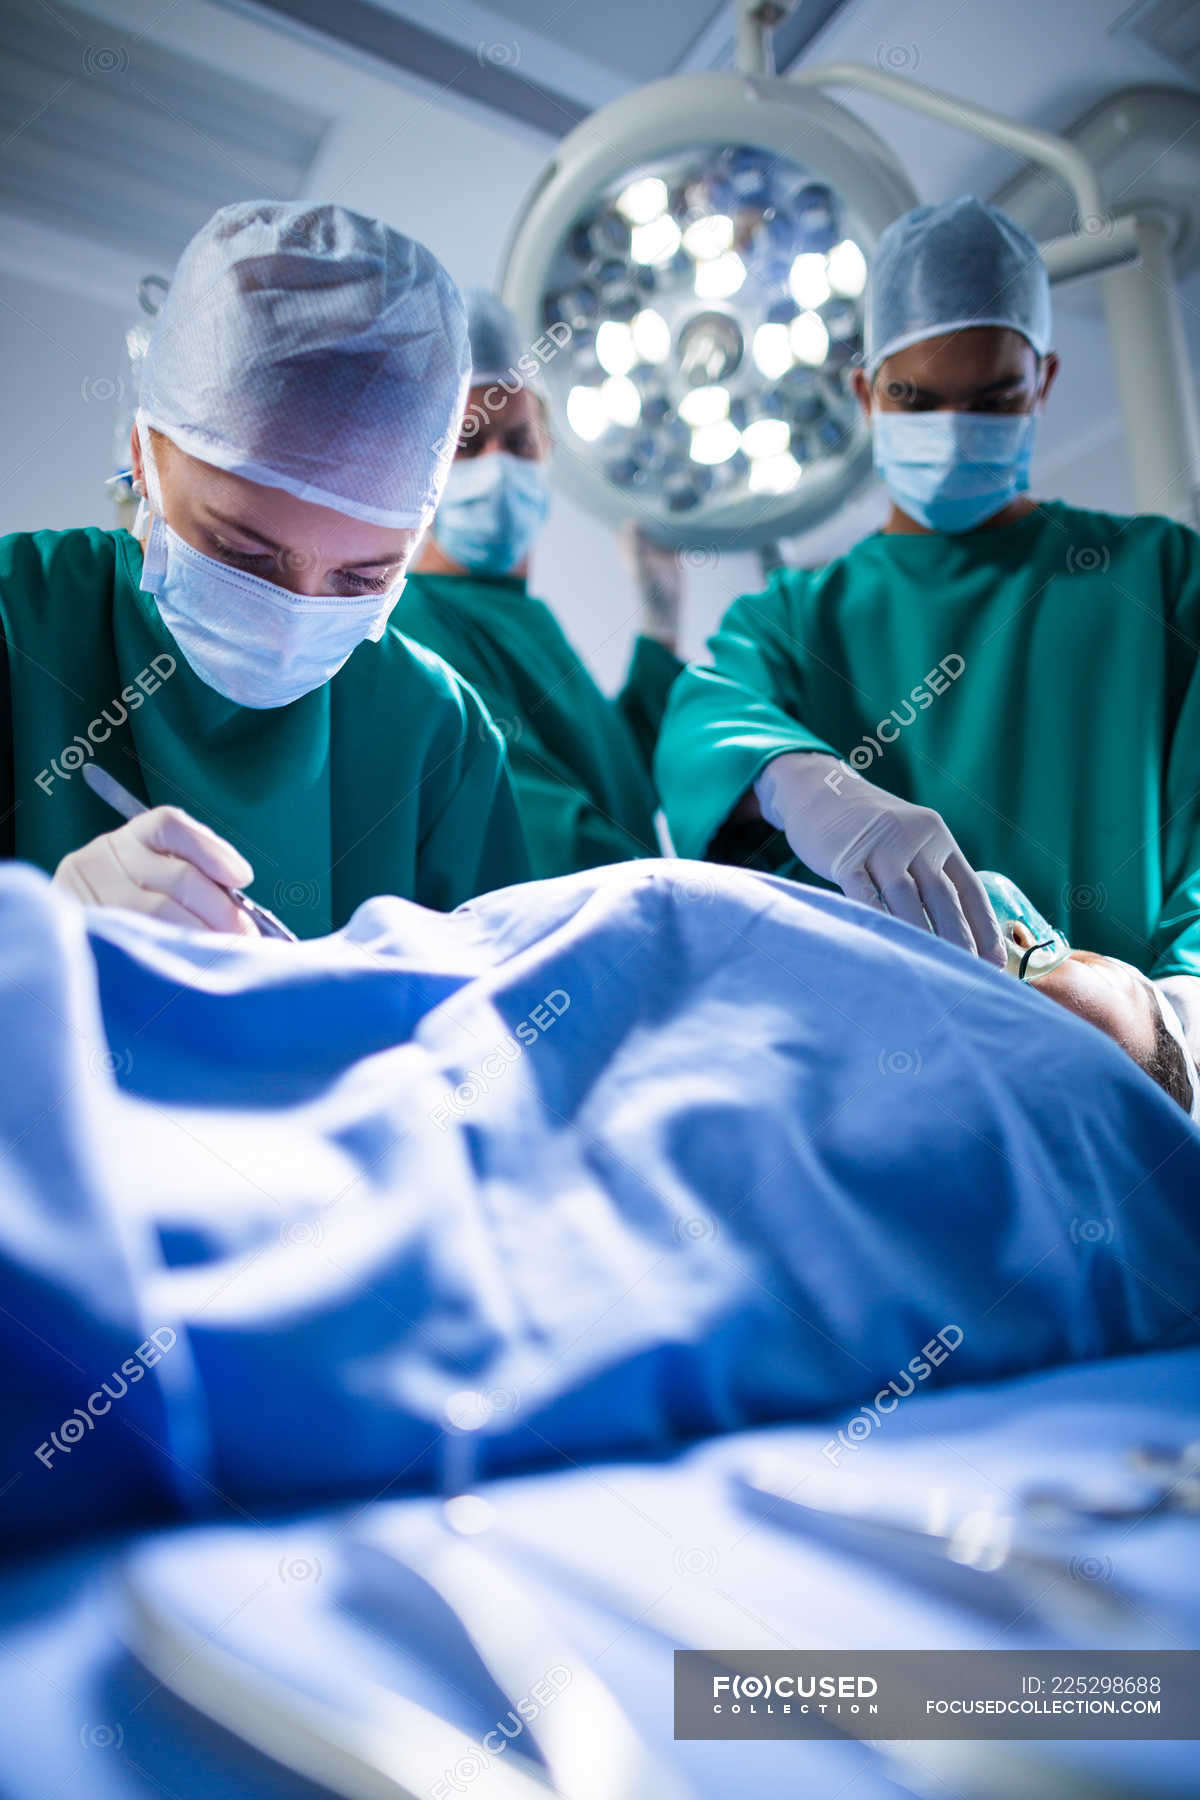Gloves: (762, 748, 1006, 976), (34, 798, 284, 954)
with_mask: (156, 489, 383, 720), (873, 353, 1040, 529)
